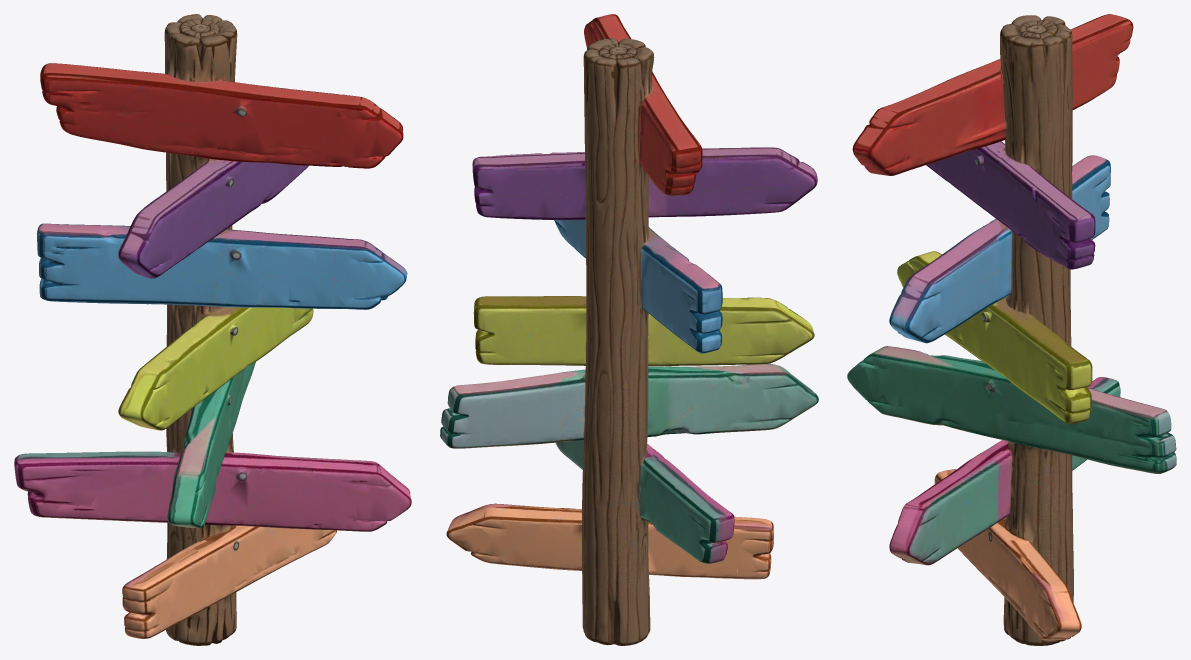
The model's file is crossroads.glb.
The picture shows the model from 3 angles, left to right: view 1: azimuth 30°, elevation 25°; view 2: azimuth 150°, elevation 25°; view 3: azimuth 270°, elevation 25°; orthographic projection. The views are drawn at different scales.
Parts seen in each view (by area): view 1: crossroads; view 2: crossroads; view 3: crossroads.
Part boxes in pixels (box(x1,y1,x2,y2)): crossroads: box(14, 14, 411, 645); crossroads: box(440, 14, 818, 645); crossroads: box(847, 14, 1176, 645).
Bounding box in the file's own units: 1.03 × 1.9 × 0.94.
Materials: 1 (1 with a texture image).
